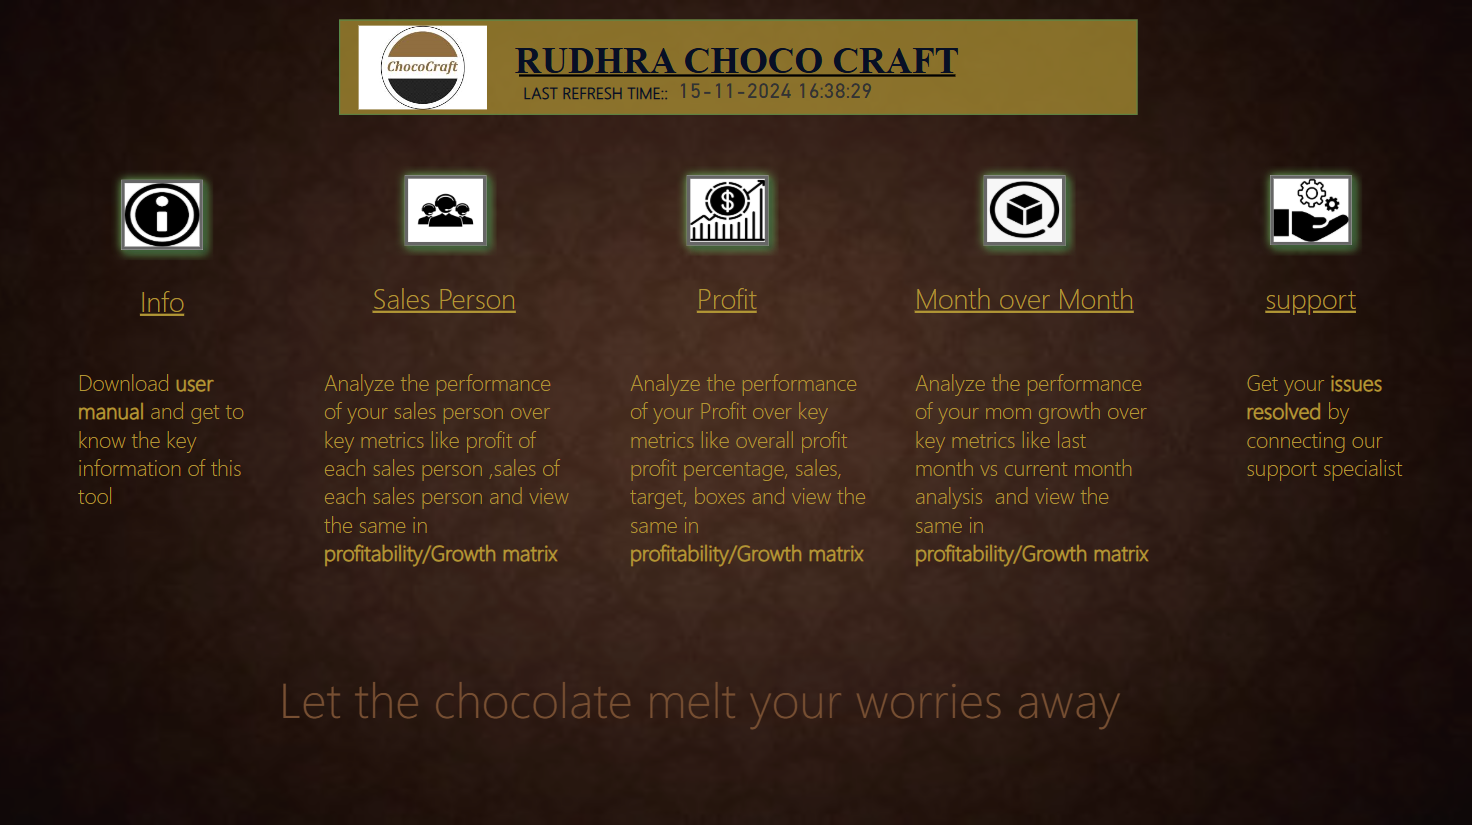

The page's visual inventory and layout, read from the dashboard file:
{"tool":"powerbi","page":{"name":"HOME","canvas":[1280,720],"ordinal":0},"visuals":[{"type":"shape","box":[296.6,17.1,692.9,82.9],"z":0,"group":"g1"},{"type":"actionButton","box":[344.5,143.3,88.6,78.6],"z":0},{"type":"textbox","box":[295,28.4,692.9,72.9],"z":1000,"group":"g1"},{"type":"textbox","box":[564.3,227.1,88.6,40],"z":1000},{"type":"image","box":[307.9,17,121.4,82.9],"z":2000,"group":"g1"},{"type":"actionButton","box":[99.2,146.5,88.6,78.6],"z":2000},{"type":"shape","box":[452.1,52.9,378.6,24.3],"z":3000,"group":"g1"},{"type":"actionButton","box":[1095,143.3,88.3,78.3],"z":3000},{"type":"actionButton","box":[588.8,143.3,88.6,78.6],"z":4000},{"type":"actionButton","box":[846.5,143.3,88.6,78.6],"z":5000},{"type":"textbox","box":[99.2,239.3,88.6,51.4],"z":6000},{"type":"textbox","box":[581.7,236.2,102.9,51.4],"z":7000},{"type":"textbox","box":[776.5,236.2,228.6,51.4],"z":8000},{"type":"textbox","box":[1078.3,236.7,121.7,51.7],"z":9000},{"type":"textbox","box":[291.7,236.2,192.9,51.4],"z":10000},{"type":"textbox","box":[1078.3,313.3,158.3,198.3],"z":11000},{"type":"textbox","box":[65,313.3,156.7,198.3],"z":12000},{"type":"textbox","box":[278.3,313.3,223.3,198.3],"z":13000},{"type":"textbox","box":[543.3,313.3,220,211.7],"z":14000},{"type":"textbox","box":[791.7,313.3,213.3,211.7],"z":15000},{"type":"group","id":"g1","title":"Group 2","box":[295,17,694.5,84.3],"z":16000},{"type":"textbox","box":[451.7,65,395,35],"z":17000},{"type":"textbox","box":[170,571.7,878.3,75],"z":18000},{"type":"card","fields":{"Values":["Min(refresh time.Column1)"]},"box":[413.3,43.3,521.7,71.7],"z":19000}]}

Visuals, with their boxes in screenshot pixels (x1, y1, x2, y2), scaled from the page's 1280x720 canvas onto the 1472x825 screenshot:
shape: box=[341, 20, 1138, 115]
actionButton: box=[396, 164, 498, 254]
textbox: box=[339, 33, 1136, 116]
textbox: box=[649, 260, 751, 306]
image: box=[354, 19, 494, 114]
actionButton: box=[114, 168, 216, 258]
shape: box=[520, 61, 955, 88]
actionButton: box=[1259, 164, 1361, 254]
actionButton: box=[677, 164, 779, 254]
actionButton: box=[973, 164, 1075, 254]
textbox: box=[114, 274, 216, 333]
textbox: box=[669, 271, 787, 330]
textbox: box=[893, 271, 1156, 330]
textbox: box=[1240, 271, 1380, 330]
textbox: box=[335, 271, 557, 330]
textbox: box=[1240, 359, 1422, 586]
textbox: box=[75, 359, 255, 586]
textbox: box=[320, 359, 577, 586]
textbox: box=[625, 359, 878, 602]
textbox: box=[910, 359, 1156, 602]
"Group 2" group: box=[339, 19, 1138, 116]
textbox: box=[519, 74, 974, 115]
textbox: box=[195, 655, 1206, 741]
card - Min(refresh time.Column1): box=[475, 50, 1075, 132]
